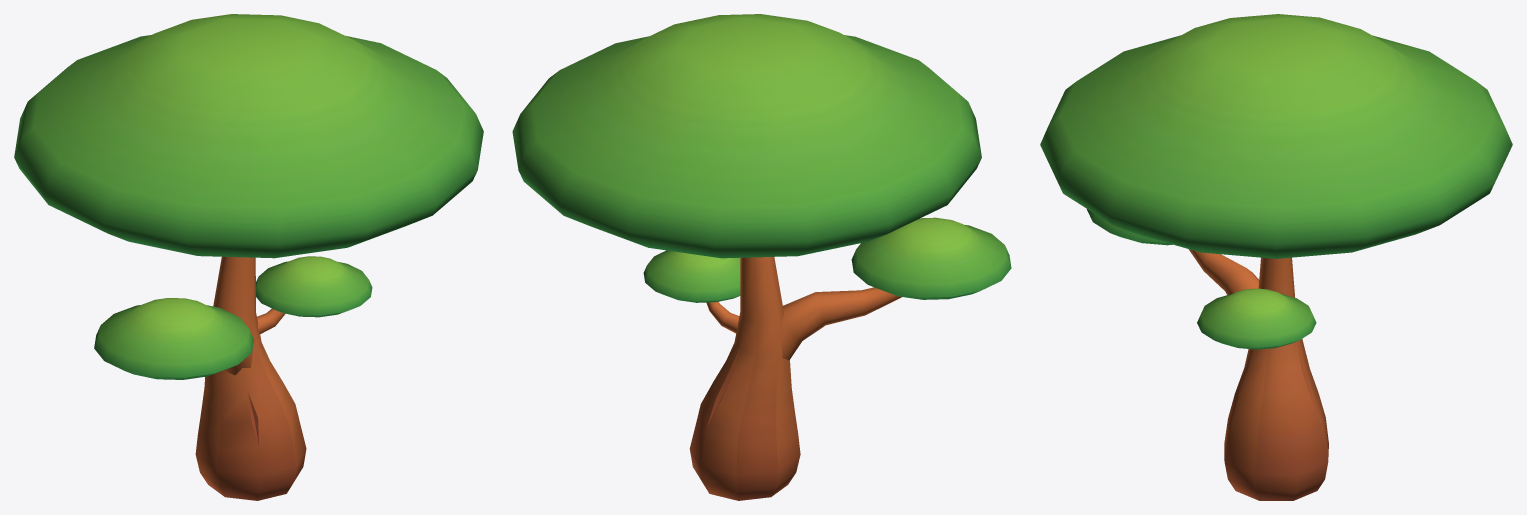
The model's file is tree_3_b_color1.glb.
The picture shows the model from 3 angles, left to right: view 1: azimuth 30°, elevation 25°; view 2: azimuth 150°, elevation 25°; view 3: azimuth 270°, elevation 25°; orthographic projection.
Parts seen in each view (by area): view 1: Tree_3_B_Color1; view 2: Tree_3_B_Color1; view 3: Tree_3_B_Color1.
Part boxes in pixels (x1,y1,x2,y2): Tree_3_B_Color1: (14, 14, 483, 500); Tree_3_B_Color1: (512, 14, 1011, 500); Tree_3_B_Color1: (1040, 14, 1512, 500).
Bounding box in the file's own units: 4.13 × 4.35 × 4.13.
1 material, 1 textured.
